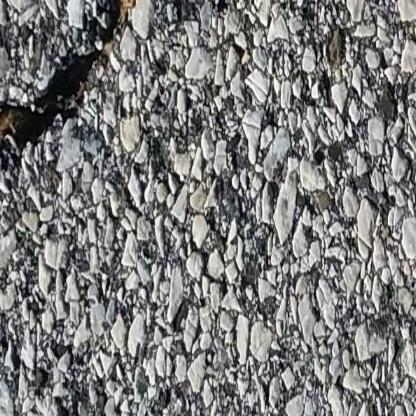Cracks: (0, 0, 188, 170)
